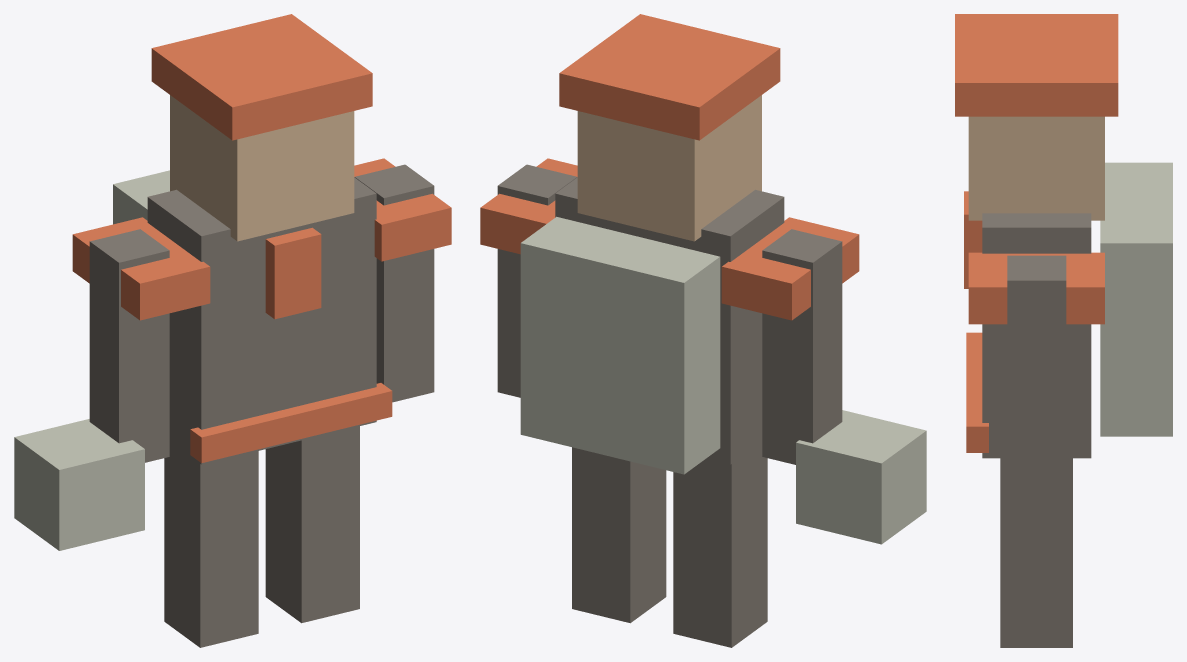
File: 01_selka_frostrelay_captain_at_saltscar.glb
The picture shows the model from 3 angles, left to right: view 1: azimuth 30°, elevation 25°; view 2: azimuth 150°, elevation 25°; view 3: azimuth 270°, elevation 25°; orthographic projection.
Parts seen in each view (by area): view 1: Selka Frostrelay, Captain at Saltscar; view 2: Selka Frostrelay, Captain at Saltscar; view 3: Selka Frostrelay, Captain at Saltscar.
Boxes of the visible parts, <box> form: Selka Frostrelay, Captain at Saltscar: <box>14,14,451,647</box>; Selka Frostrelay, Captain at Saltscar: <box>480,14,926,647</box>; Selka Frostrelay, Captain at Saltscar: <box>955,14,1172,647</box>.
Bounding box in the file's own units: 1.02 × 1.39 × 0.4901.
